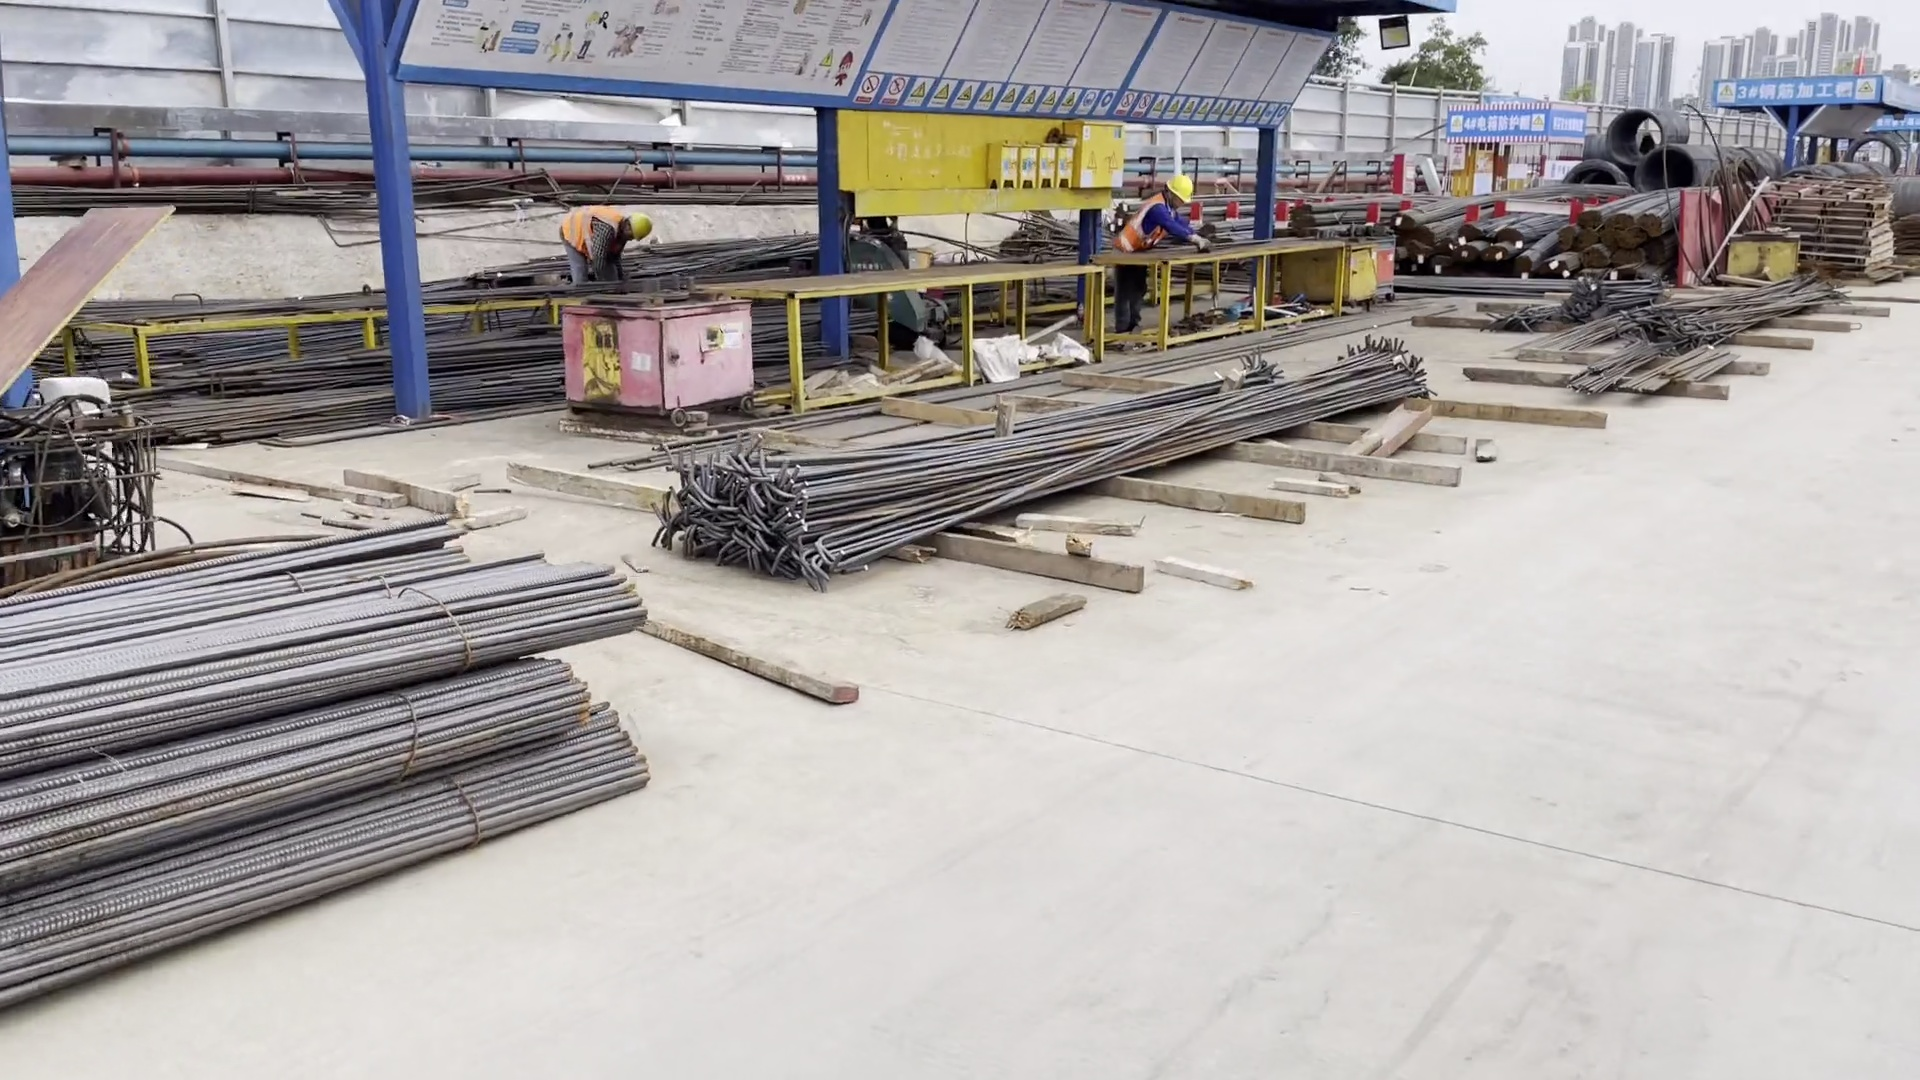ebox: (1077, 116, 1122, 190)
helmet: (1164, 173, 1194, 203), (628, 214, 652, 241)
person: (1106, 174, 1211, 256), (543, 211, 658, 283)
rebar: (1, 682, 639, 1019), (660, 339, 1436, 565), (1, 638, 584, 889), (1, 550, 584, 772), (1, 512, 452, 644), (1395, 183, 1635, 235), (1286, 190, 1436, 228), (1578, 186, 1671, 230), (1606, 179, 1680, 232), (1493, 208, 1563, 243), (1515, 232, 1557, 274), (1639, 205, 1684, 242), (1456, 213, 1503, 239), (1612, 247, 1650, 274), (1543, 250, 1580, 277), (1482, 243, 1515, 270), (1406, 239, 1436, 264), (1582, 246, 1609, 270), (1428, 256, 1459, 275), (1456, 244, 1482, 267), (1438, 235, 1461, 255)
vest: (552, 211, 630, 260), (1118, 198, 1181, 253)
